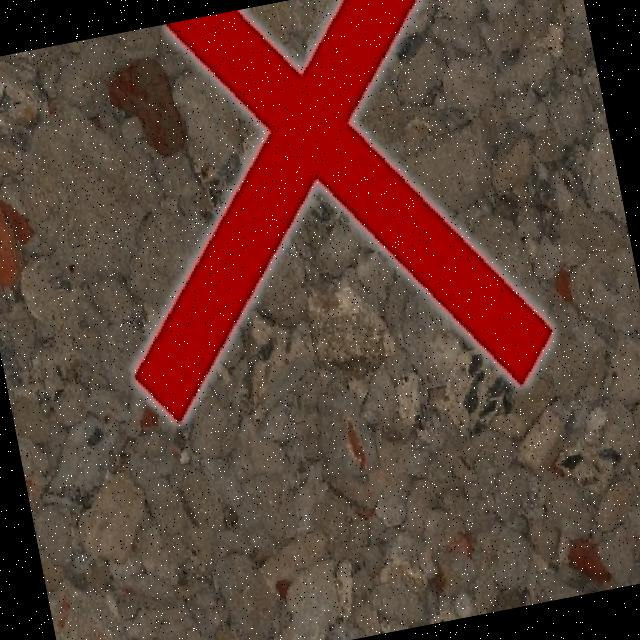x_marker: (69, 0, 559, 454)
